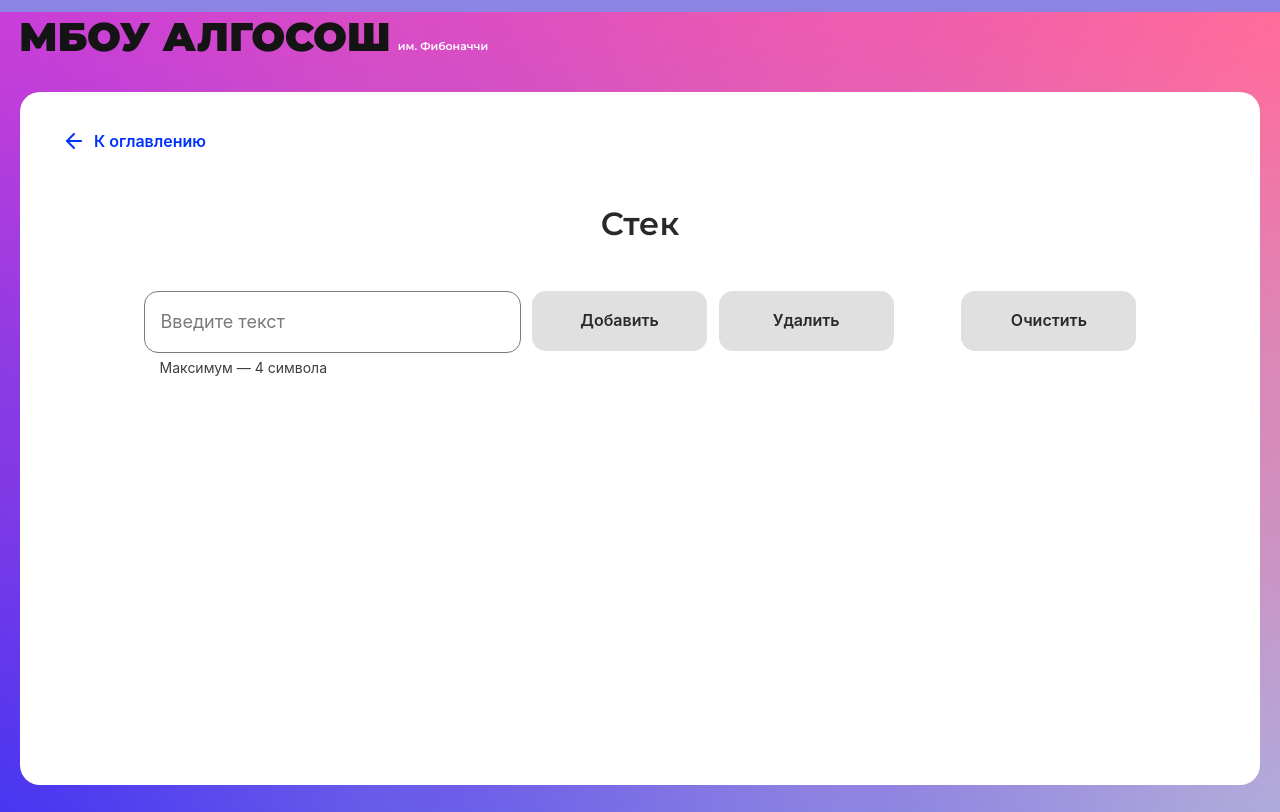
Test: Stack Work Is Correct › Correct removal of an element from the stack
The image size is (1280, 812).
Type "A" into the field with test id "input" at [333, 322], box [144,291,521,353]
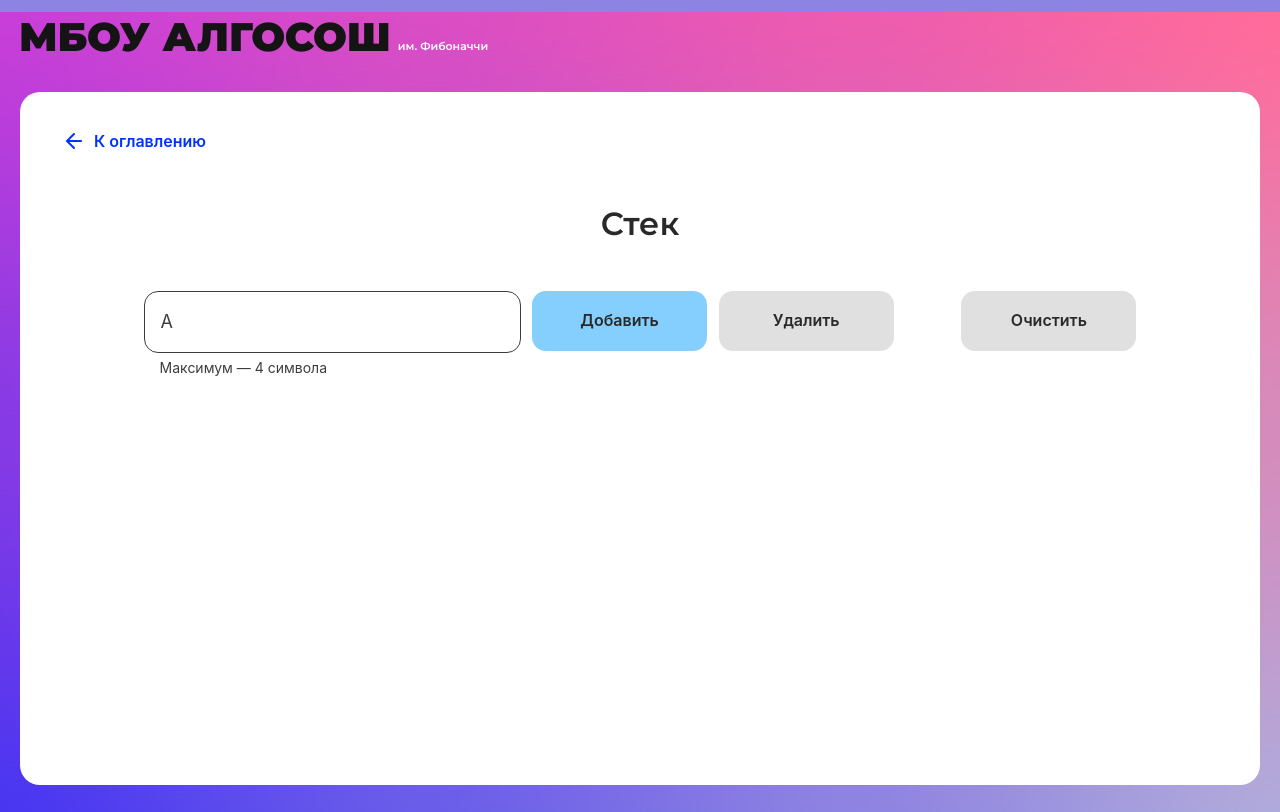
Click the button with test id "addBtn" at [620, 321], box [532,291,707,351]
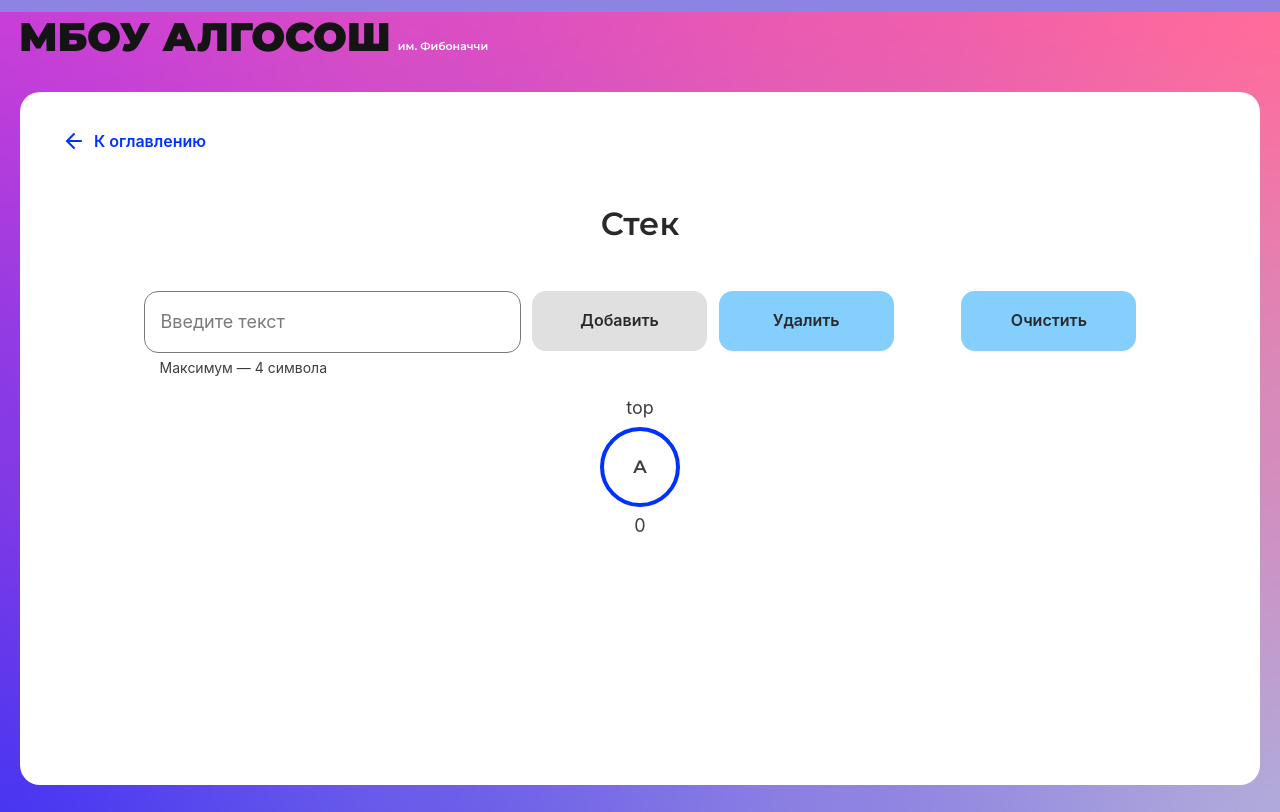
Click the button with test id "delBtn" at [807, 321], box [719,291,894,351]
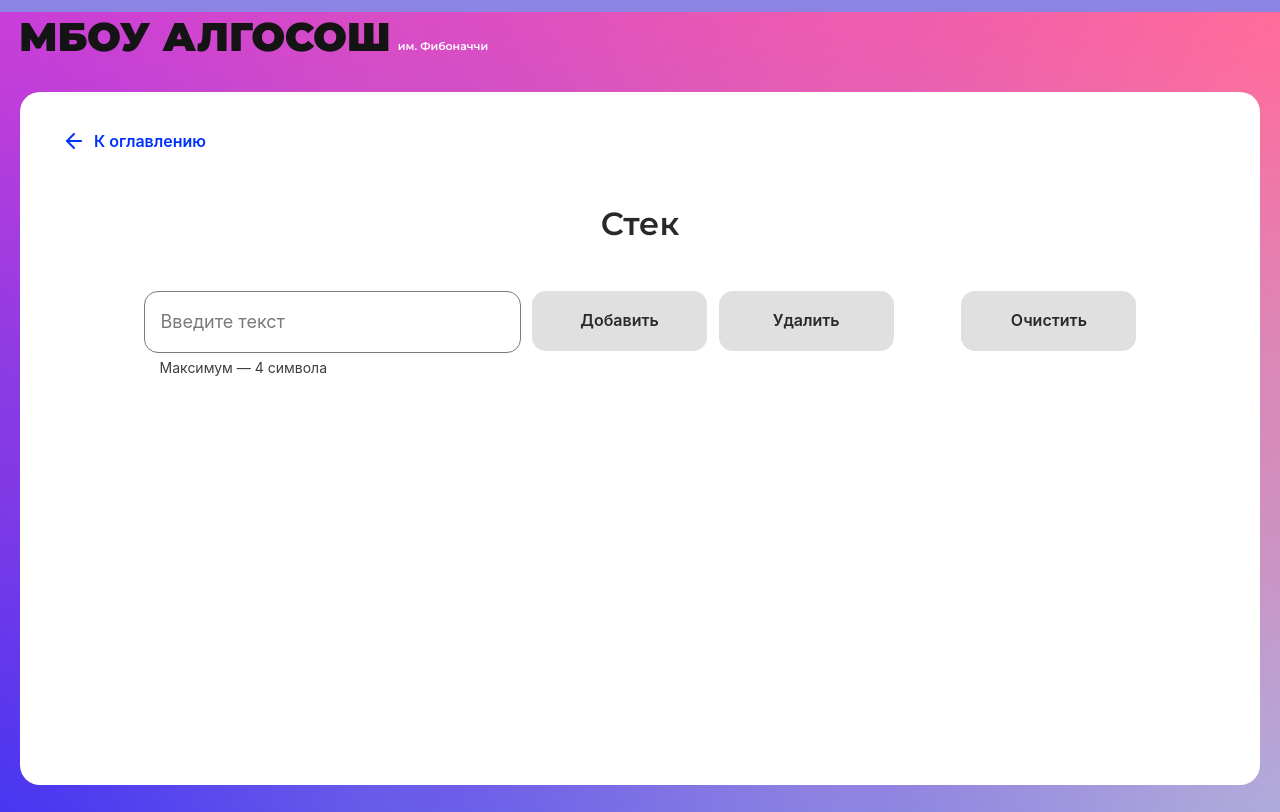
Expected: the element with test id "circle" is gone
